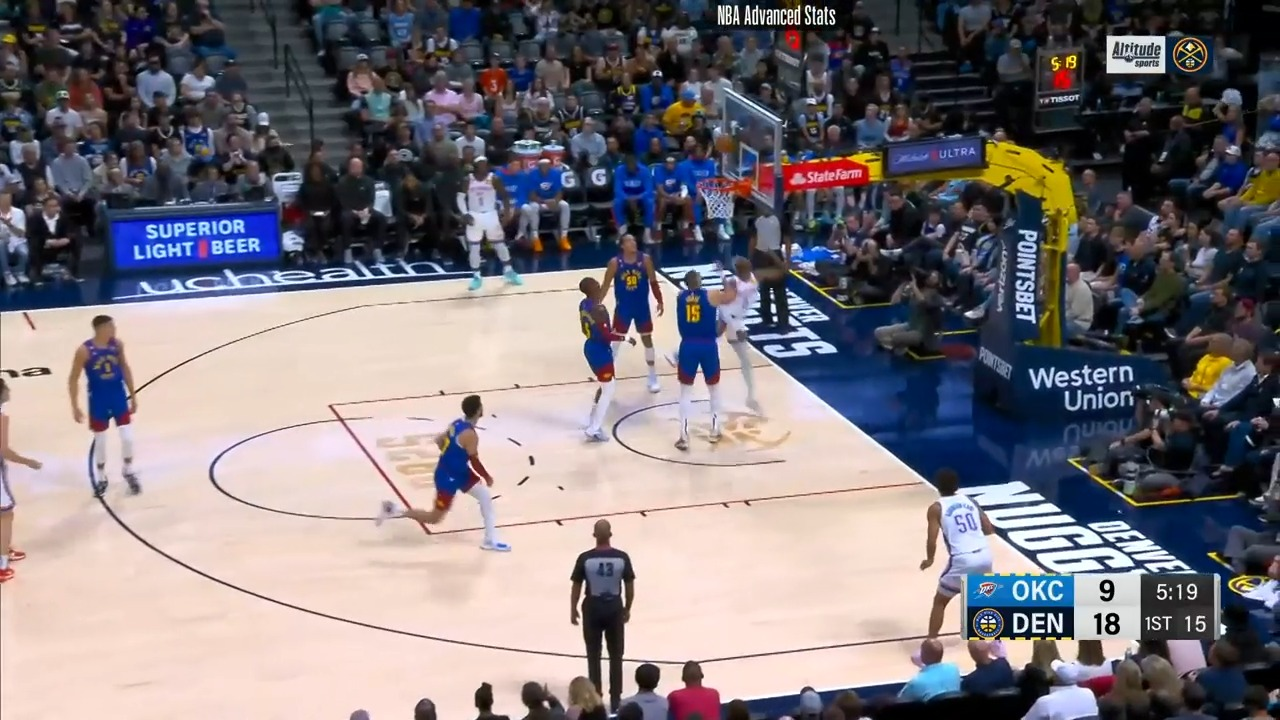net: (695, 174, 752, 225)
player: (375, 393, 511, 558), (917, 465, 1004, 671), (66, 311, 149, 507), (668, 267, 737, 457), (597, 232, 667, 397), (704, 255, 768, 431), (572, 275, 634, 446), (0, 375, 47, 585), (454, 157, 517, 300)
referee: (564, 522, 638, 707), (738, 201, 795, 339)
